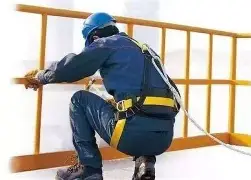safety belt: (101, 33, 193, 125)
